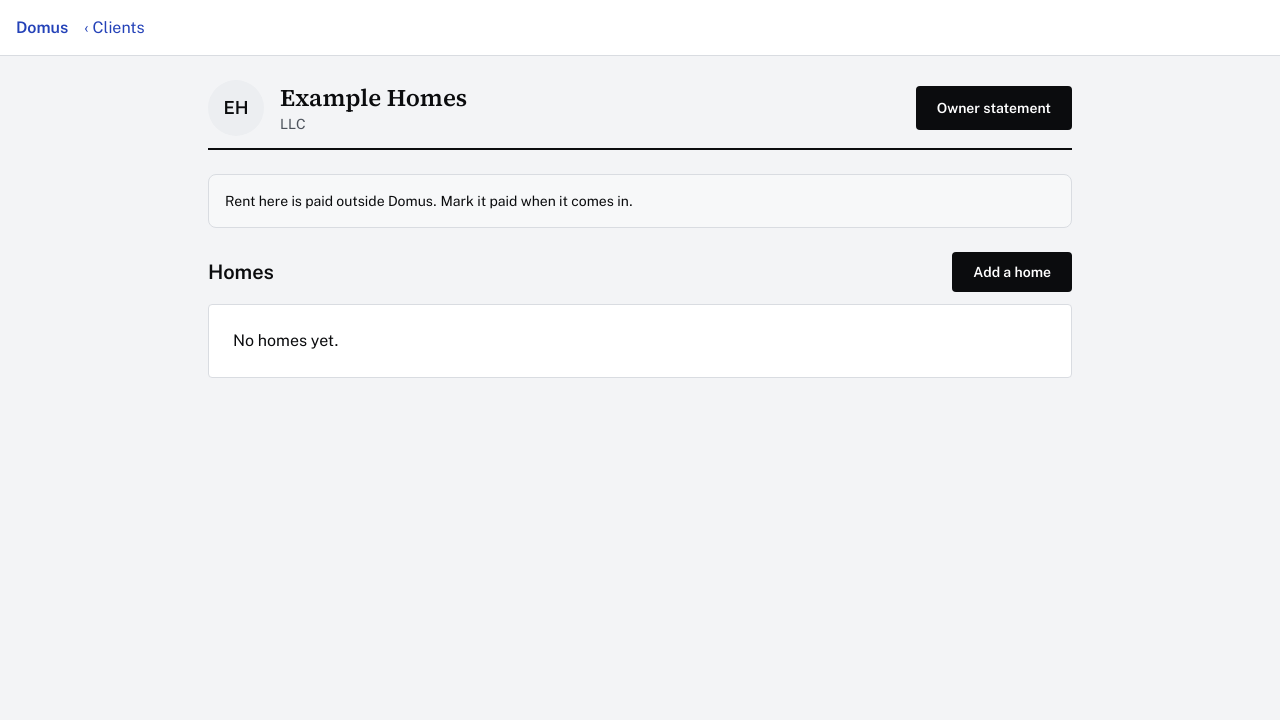
Scenario: owner statement sheet › opens, loads totals and links both downloads
This screenshot has width=1280, height=720.
Click the button "Owner statement" at [994, 108], box [916, 86, 1072, 130]
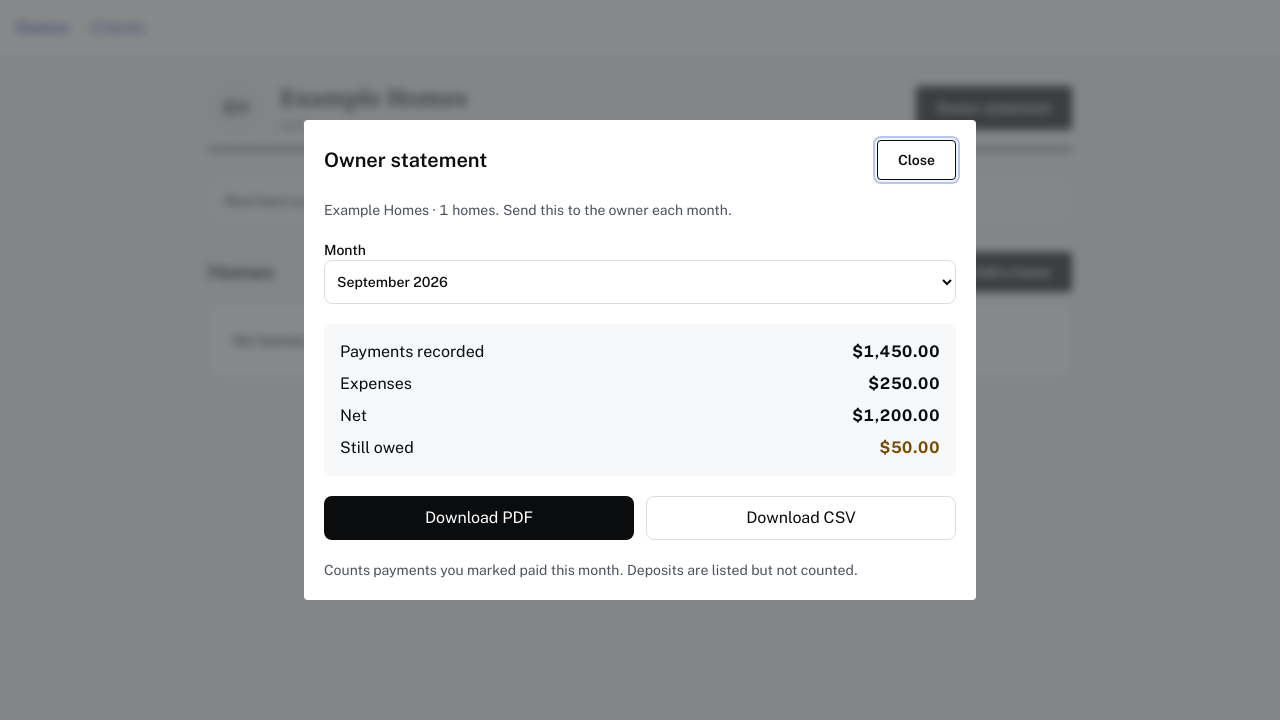
expect the text "$1,450.00" is shown: met, box [852, 340, 940, 364]
expect the dropdown labelled "Month" shows "September 2026": met, box [324, 260, 956, 304]
